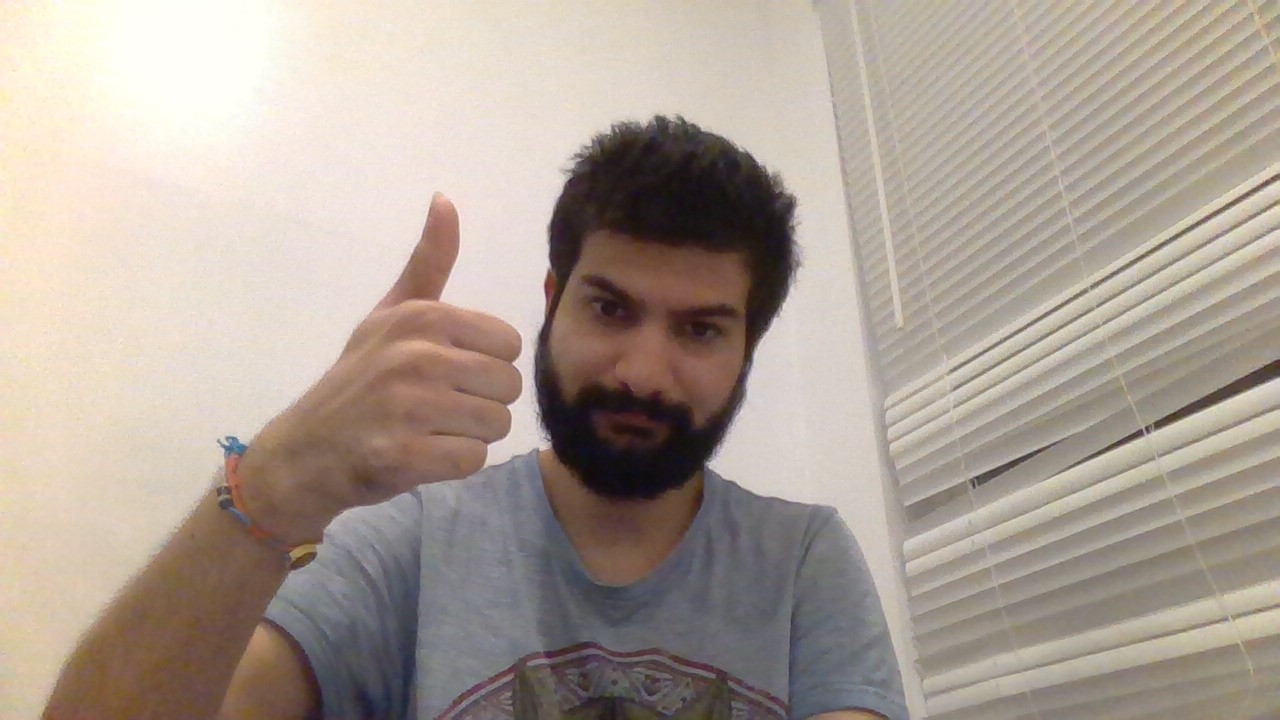up: (349, 189, 531, 487)
